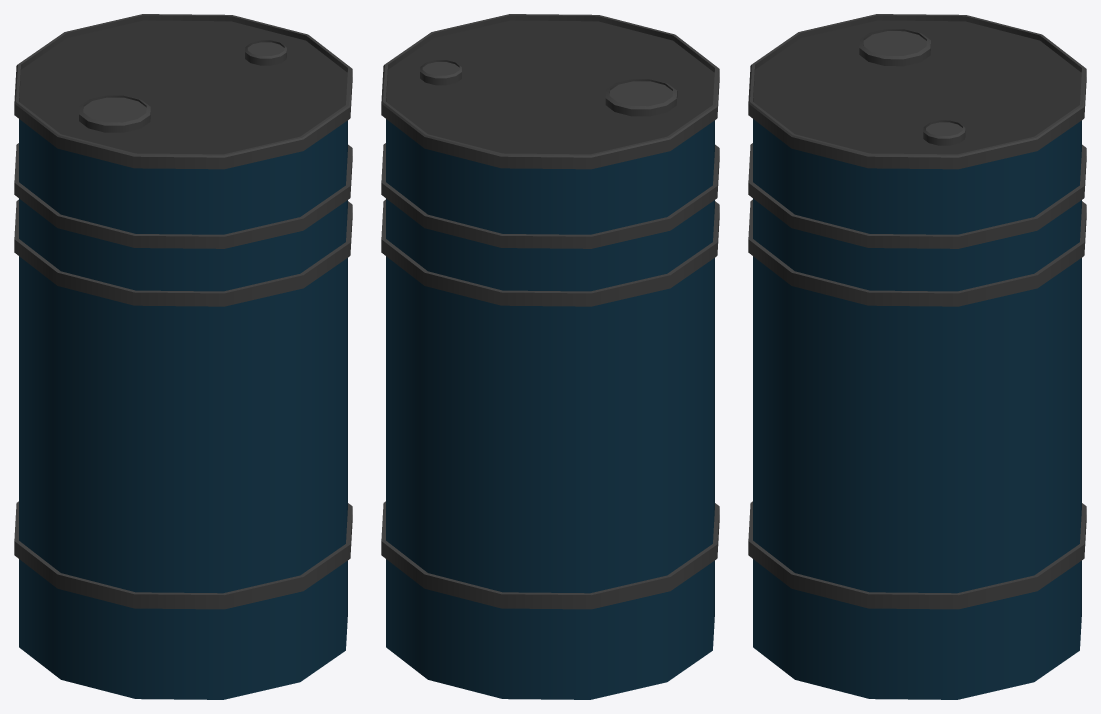
File: props_25.glb
3 views of the same model, side by side, from view 1: azimuth 30°, elevation 25°; view 2: azimuth 150°, elevation 25°; view 3: azimuth 270°, elevation 25° (orthographic).
Visible parts, largest first — view 1: props_25; view 2: props_25; view 3: props_25.
Part boxes in pixels (bbox=[...]): props_25: bbox=[14, 14, 352, 699]; props_25: bbox=[381, 14, 719, 699]; props_25: bbox=[748, 14, 1086, 699].
Bounding box in the file's own units: 0.8109 × 1.45 × 0.8109.
Materials: 1 (1 with a texture image).
